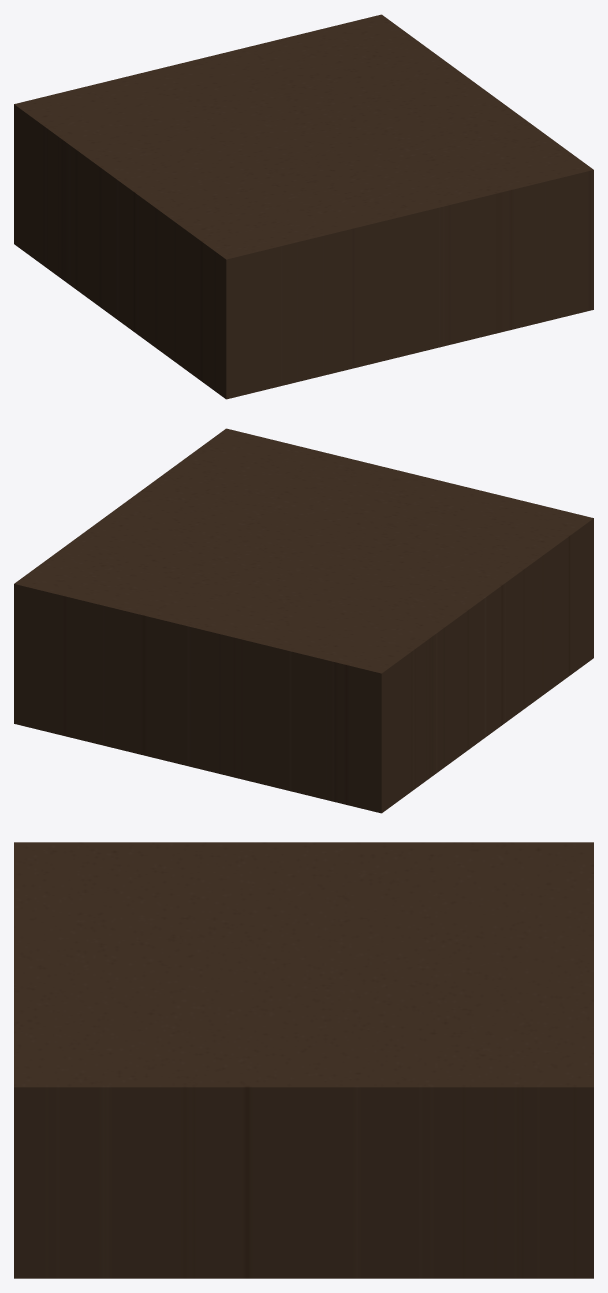
File: tower.glb
3 renders of one model, top to bottom at view 1: azimuth 30°, elevation 25°; view 2: azimuth 150°, elevation 25°; view 3: azimuth 270°, elevation 25°, orthographic. The views are drawn at different scales.
Parts seen in each view (by area): view 1: tower; view 2: tower; view 3: tower.
Part boxes in pixels (box(x1,y1,x2,y2)): tower: box(14, 14, 593, 399); tower: box(14, 428, 593, 813); tower: box(14, 842, 593, 1278).
Bounding box in the file's own units: 0.055 × 0.02 × 0.055.
Materials: 1 (1 with a texture image).
